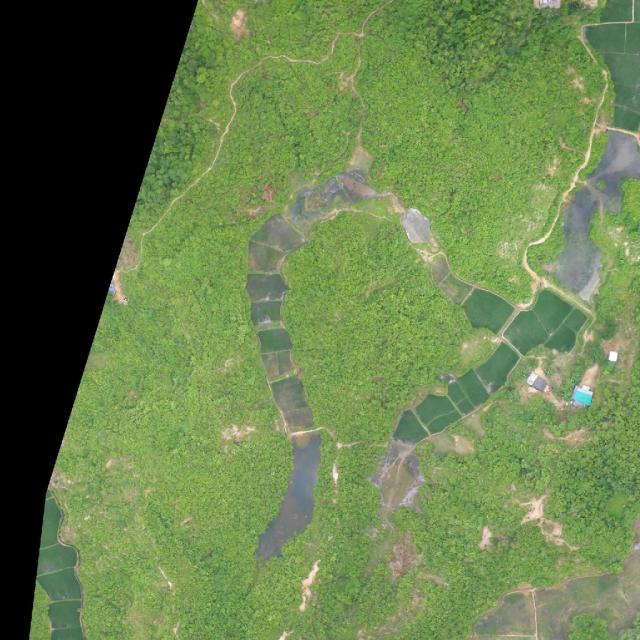agricultural_land: (101, 99, 597, 565), (357, 371, 468, 523)
greenland: (61, 27, 371, 507), (303, 213, 467, 443), (544, 382, 640, 560), (85, 595, 133, 640), (29, 579, 51, 639), (56, 521, 76, 543)
